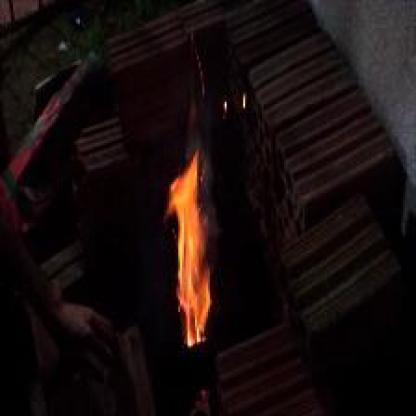fire: (171, 169, 218, 364)
